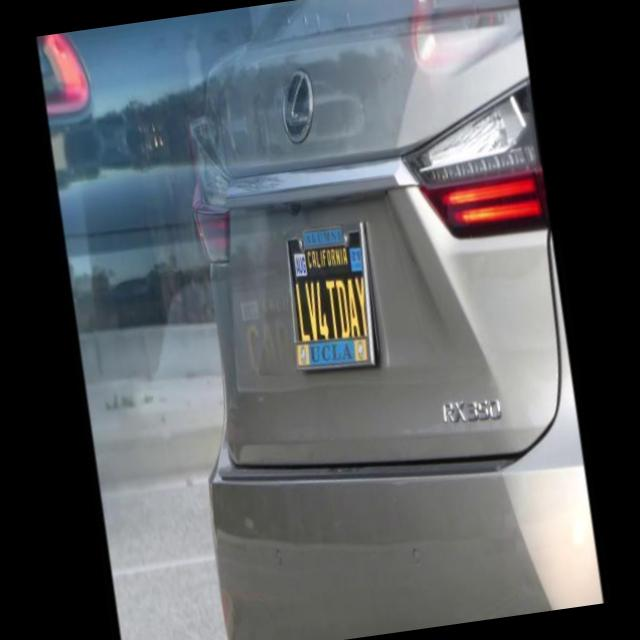LicensePlate: (282, 228, 379, 378)
